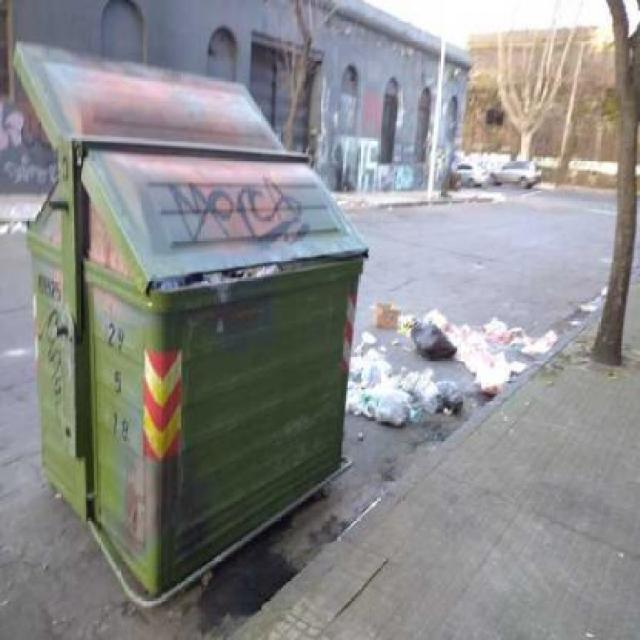garbage: (340, 286, 563, 452), (157, 248, 367, 284)
